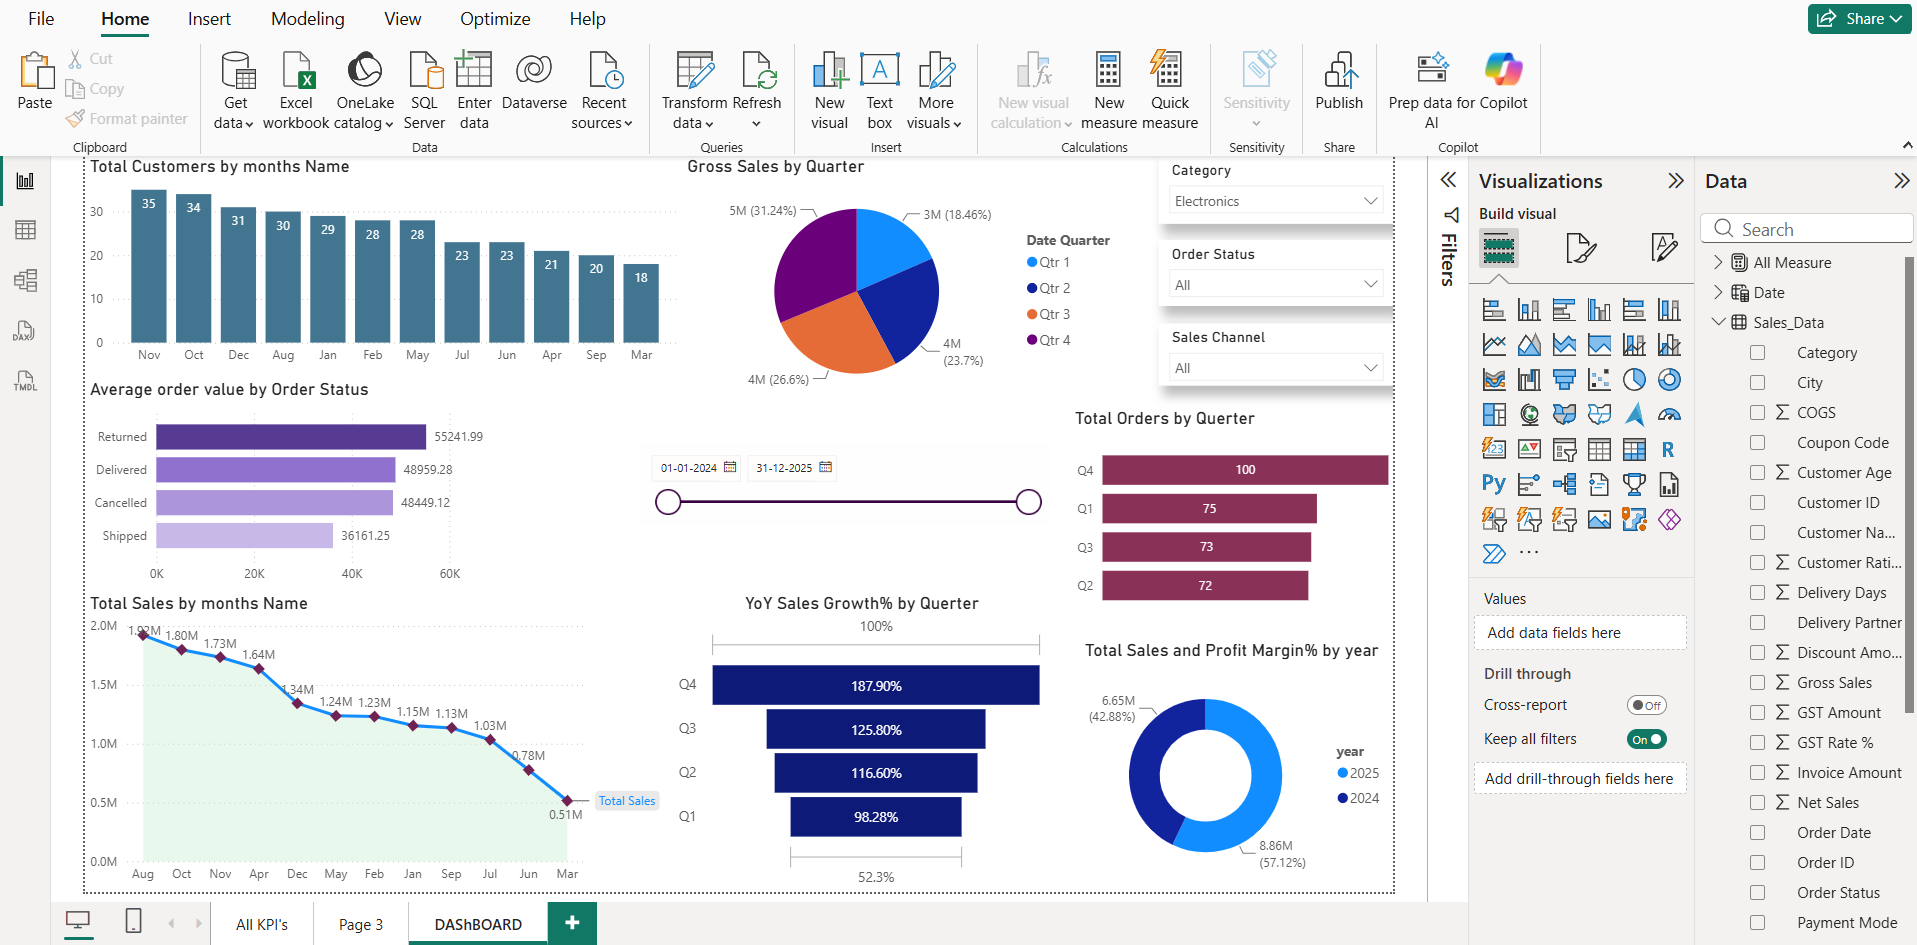

What the dashboard file says about the page in this screenshot:
{"tool":"powerbi","page":{"name":"DAShBOARD","canvas":[1280,720],"ordinal":2},"visuals":[{"type":"clusteredColumnChart","fields":{"Y":["All Measure.Total Customers"],"Category":["Date.months Name"]},"box":[0,0,584.5,212.8],"z":0},{"type":"barChart","fields":{"Category":["Date.Querter"],"Y":["All Measure.Total Orders"]},"box":[963.6,245.8,316.7,210.3],"z":1000},{"type":"lineChart","fields":{"Y":["All Measure.Total Sales"],"Category":["Date.months Name"]},"box":[0,426.8,567.4,293.5],"z":2000},{"type":"pieChart","fields":{"Y":["All Measure.Gross Sales"],"Category":["Date.Date.Variation.Date Hierarchy.Quarter","Date.Date.Variation.Date Hierarchy.Month","Date.Date.Variation.Date Hierarchy.Day"]},"box":[584.5,0,440.2,245.8],"z":3000},{"type":"donutChart","fields":{"Category":["Date.year"],"Y":["All Measure.Total Sales"]},"box":[963.6,473.2,316.7,247],"z":4000},{"type":"slicer","fields":{"Values":["Sales_Data.Category"]},"box":[1050.4,0,229.9,66],"z":5000},{"type":"slicer","fields":{"Values":["Sales_Data.Order Status"]},"box":[1050.1,81.9,229.9,64.8],"z":6000},{"type":"barChart","fields":{"Category":["Sales_Data.Order Status"],"Y":["All Measure.Average order value"]},"box":[0,217.7,404.8,209.1],"z":7000},{"type":"slicer","fields":{"Values":["Sales_Data.Sales Channel"]},"box":[1050.4,163.9,229.9,61.1],"z":8000},{"type":"funnel","fields":{"Y":["All Measure.YoY Sales Growth%"],"Category":["Date.Querter"]},"box":[576,426.8,368.1,293.5],"z":9000},{"type":"slicer","fields":{"Values":["Date.Date"]},"box":[541.7,282.5,402.3,77],"z":10000}]}

Visuals, with their boxes on the page's 1280x720 design canvas (x1, y1, x2, y2). These are canvas units, not pixel positions in the 1917x945 screenshot, which may show the page scaled, cropped or inside an application window:
clusteredColumnChart - All Measure.Total Customers x Date.months Name: select_region(0, 0, 584, 213)
barChart - Date.Querter x All Measure.Total Orders: select_region(964, 246, 1280, 456)
lineChart - All Measure.Total Sales x Date.months Name: select_region(0, 427, 567, 720)
pieChart - All Measure.Gross Sales x Date.Date.Variation.Date Hierarchy.Quarter: select_region(584, 0, 1025, 246)
donutChart - Date.year x All Measure.Total Sales: select_region(964, 473, 1280, 720)
slicer - Sales_Data.Category: select_region(1050, 0, 1280, 66)
slicer - Sales_Data.Order Status: select_region(1050, 82, 1280, 147)
barChart - Sales_Data.Order Status x All Measure.Average order value: select_region(0, 218, 405, 427)
slicer - Sales_Data.Sales Channel: select_region(1050, 164, 1280, 225)
funnel - All Measure.YoY Sales Growth% x Date.Querter: select_region(576, 427, 944, 720)
slicer - Date.Date: select_region(542, 282, 944, 360)
